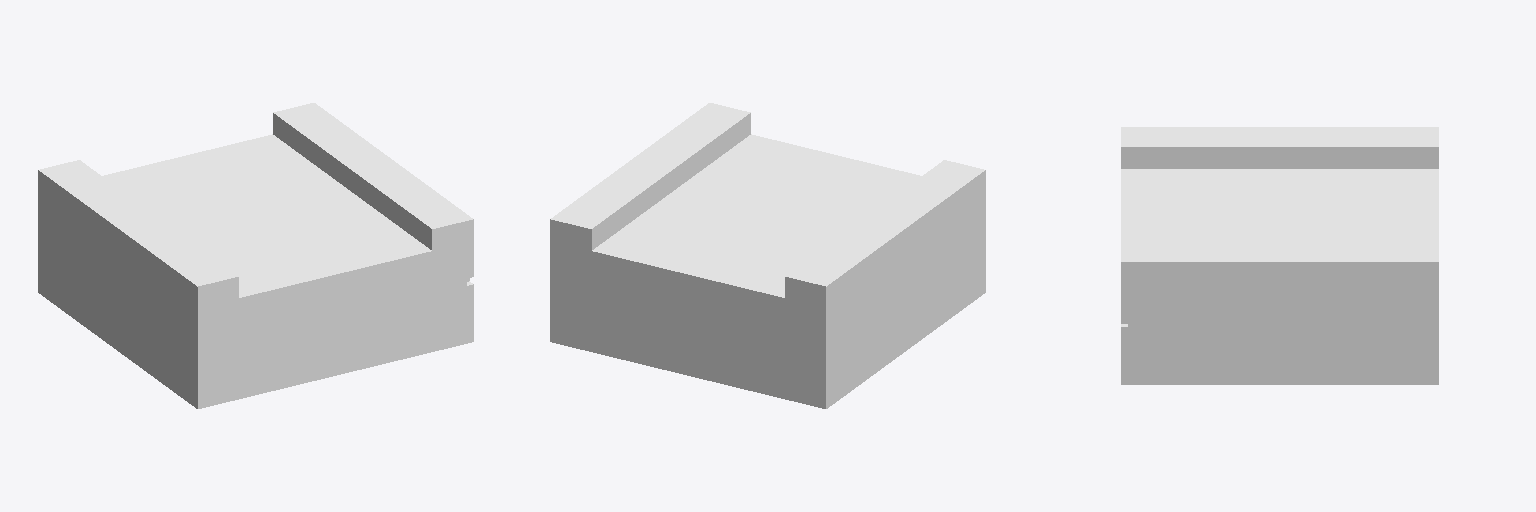
Rendered from way.obj.
The picture shows the model from 3 angles: view 1: azimuth 30°, elevation 25°; view 2: azimuth 150°, elevation 25°; view 3: azimuth 270°, elevation 25°; orthographic projection.
Parts seen in each view (by area): view 1: object 1; view 2: object 1; view 3: object 1.
Part boxes in pixels (left/top/right/bottom): object 1: left=38, top=103, right=473, bottom=408; object 1: left=550, top=103, right=985, bottom=408; object 1: left=1121, top=127, right=1438, bottom=384.
Size of the model in its own units: 4 by 1.7 by 4.